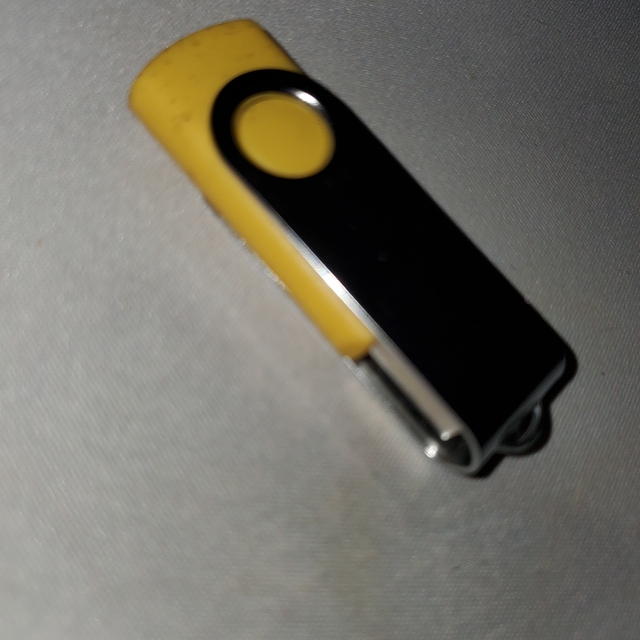usb_drive: (128, 8, 592, 483)
